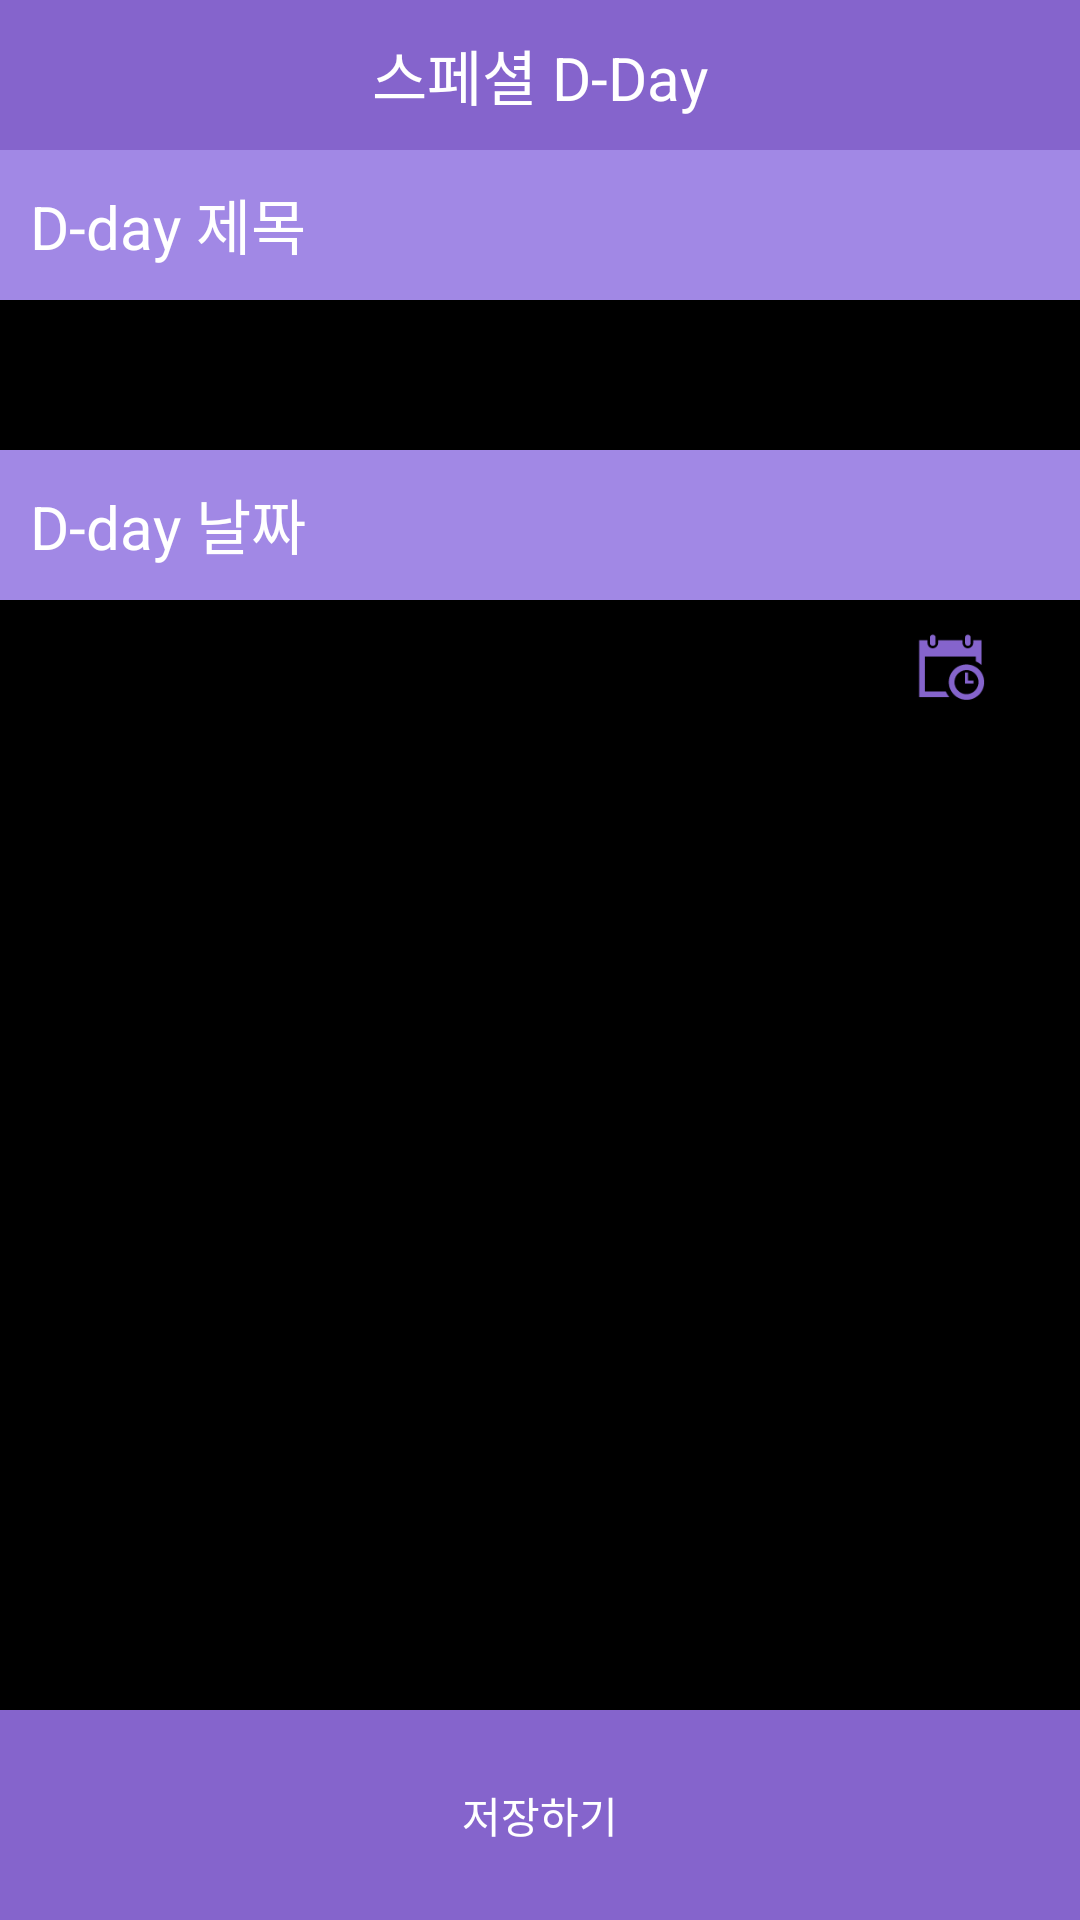

Named icons in this screenshot (1080px×1920px) and their bounding boxes, (x1, y1, x2, y2):
specialday calendar: (919, 634, 984, 700)
